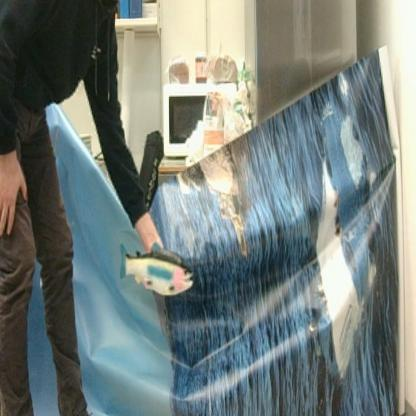rubberfish: (117, 234, 198, 300)
